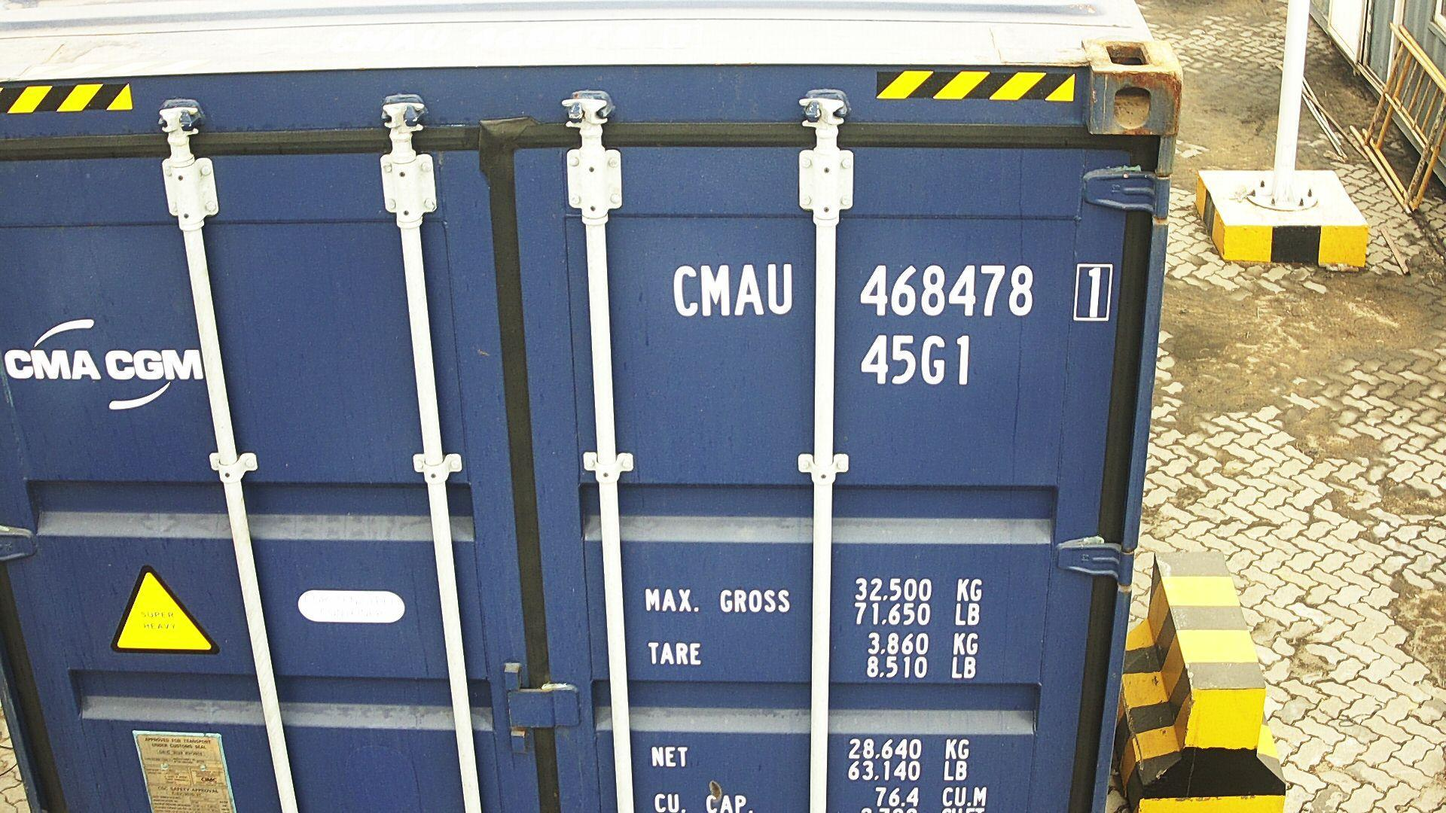container-numbers: (664, 257, 1119, 326), (854, 332, 976, 393)
